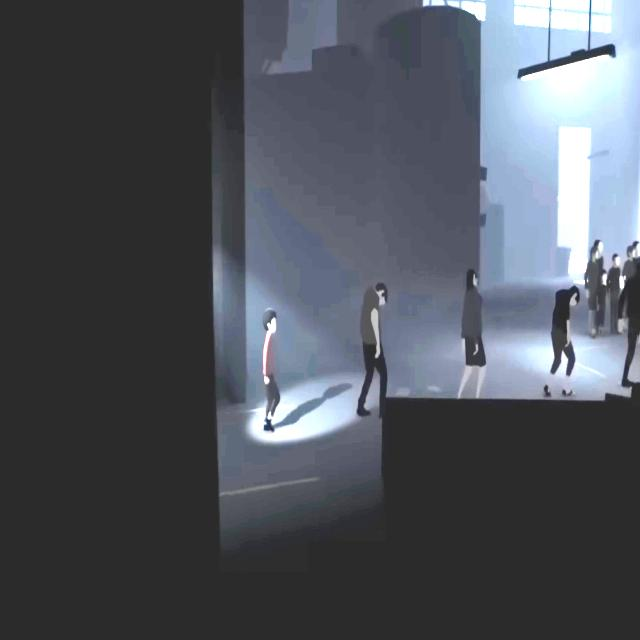boy: (263, 308, 280, 433)
human: (584, 246, 599, 338), (607, 254, 620, 335), (599, 267, 607, 336), (623, 245, 635, 276), (594, 240, 604, 266), (632, 241, 640, 261)
zombie: (357, 282, 388, 418), (544, 286, 580, 397), (458, 269, 486, 398), (617, 262, 640, 387)
